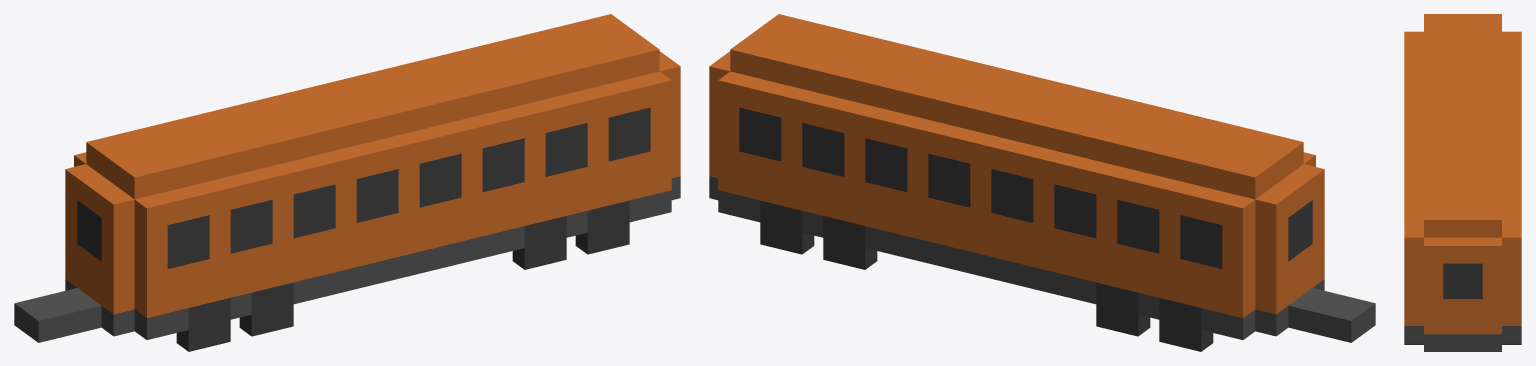
The model's file is train-trailer-v3-orange.gltf.
The picture shows the model from 3 angles, left to right: view 1: azimuth 30°, elevation 25°; view 2: azimuth 150°, elevation 25°; view 3: azimuth 270°, elevation 25°; orthographic projection. The views are drawn at different scales.
Parts seen in each view (by area): view 1: model, wheels; view 2: model, wheels; view 3: model.
Boxes of the visible parts, left/top/right/bottom form: model: left=14, top=14, right=680, bottom=342; wheels: left=176, top=200, right=629, bottom=351; model: left=709, top=14, right=1375, bottom=342; wheels: left=760, top=200, right=1213, bottom=351; model: left=1404, top=14, right=1521, bottom=351.
Size of the model in its own units: 3 by 0.8 by 0.6.
Materials: 2 (2 with a texture image).
